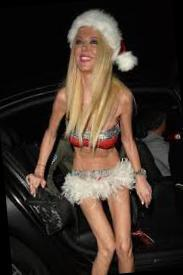Drunk: (76, 29, 100, 71)
